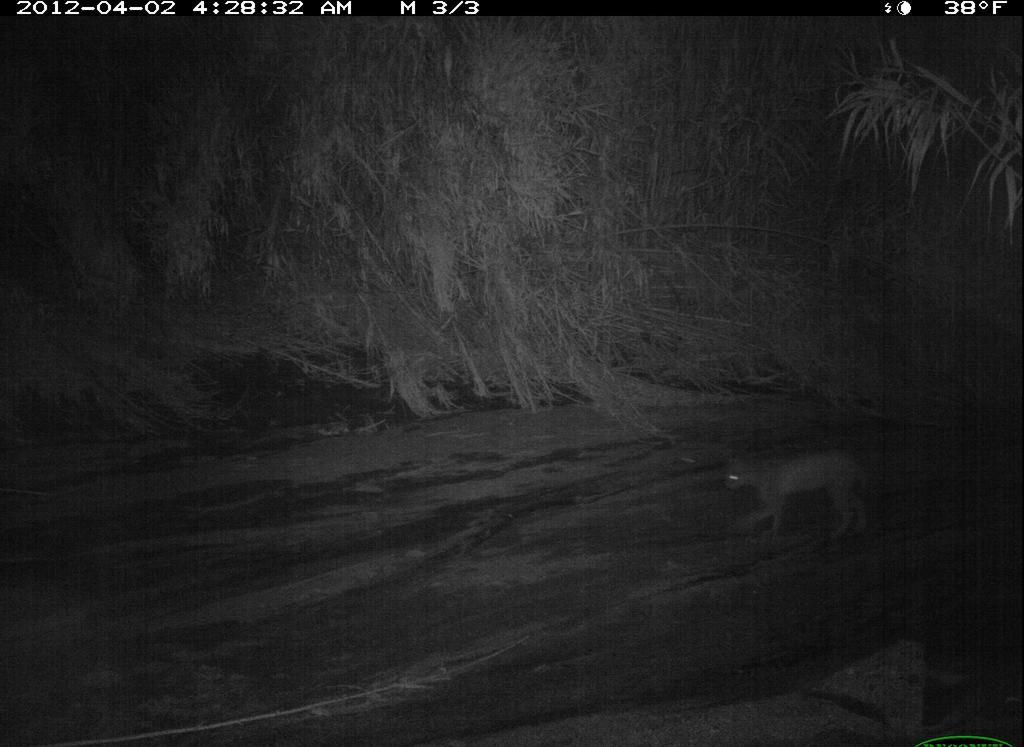bobcat: (717, 443, 884, 545)
